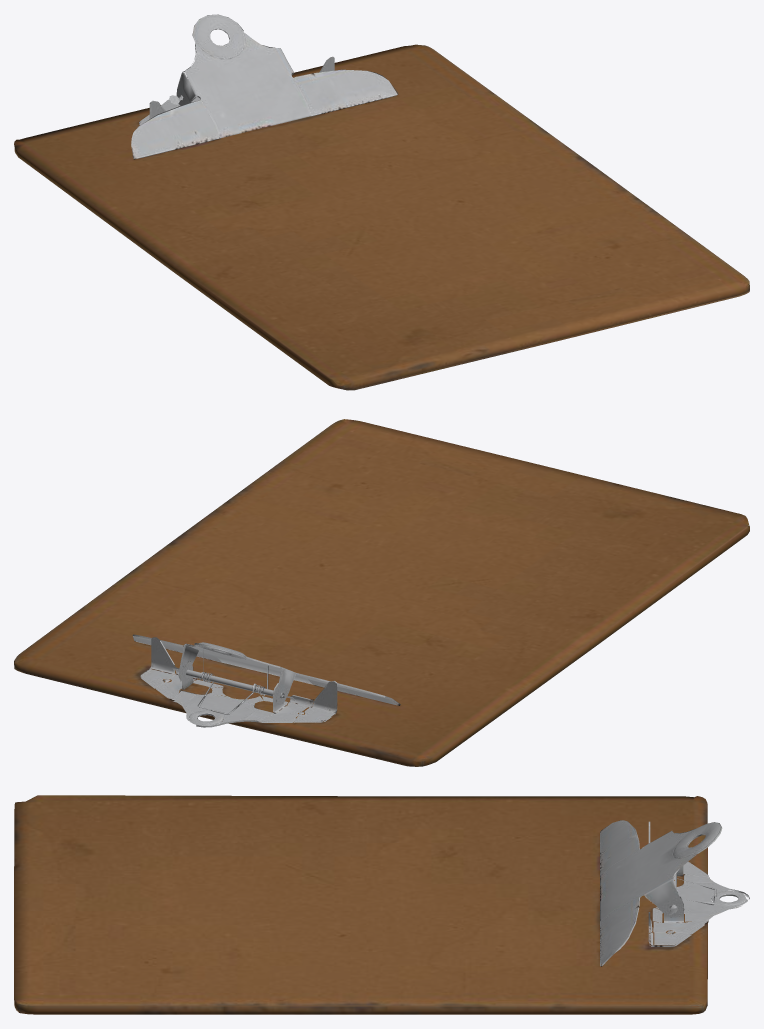
Rendered from prancheta.glb.
3 views of the same model, one above another, from view 1: azimuth 30°, elevation 25°; view 2: azimuth 150°, elevation 25°; view 3: azimuth 270°, elevation 25° (orthographic). The views are drawn at different scales.
Visible parts, largest first — view 1: clipboard_clipboard_0; view 2: clipboard_clipboard_0; view 3: clipboard_clipboard_0.
Boxes of the visible parts, x1=… form: clipboard_clipboard_0: x1=14, y1=14, x2=749, y2=390; clipboard_clipboard_0: x1=14, y1=419, x2=749, y2=766; clipboard_clipboard_0: x1=14, y1=795, x2=749, y2=1014.
Size of the model in its own units: 0.2285 by 0.042 by 0.3365.
1 material, 1 textured.
